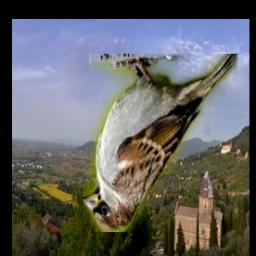Sparrow: (83, 55, 237, 233)
